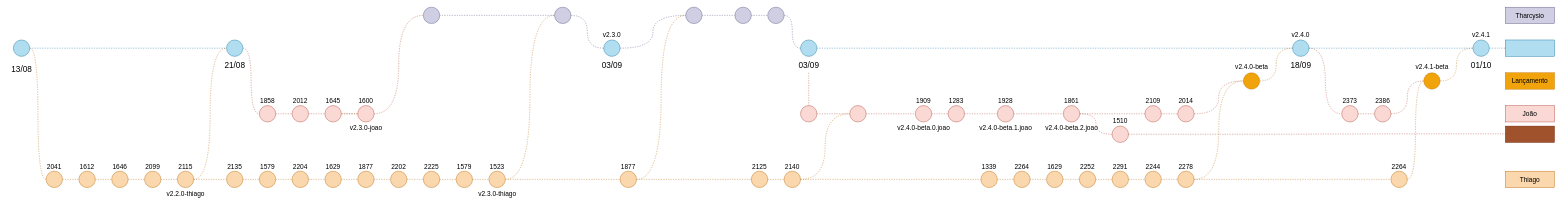
This 1562x207 diagram has some shape labels left out. Each missing label, with the centre of its shape:
joao_feat1: the point at 1530,134
PRODUÇÃO: the point at 1530,48
v2.1.2: the point at 21,48
v2.2.0: the point at 234,48
v2.3.1: the point at 808,48
